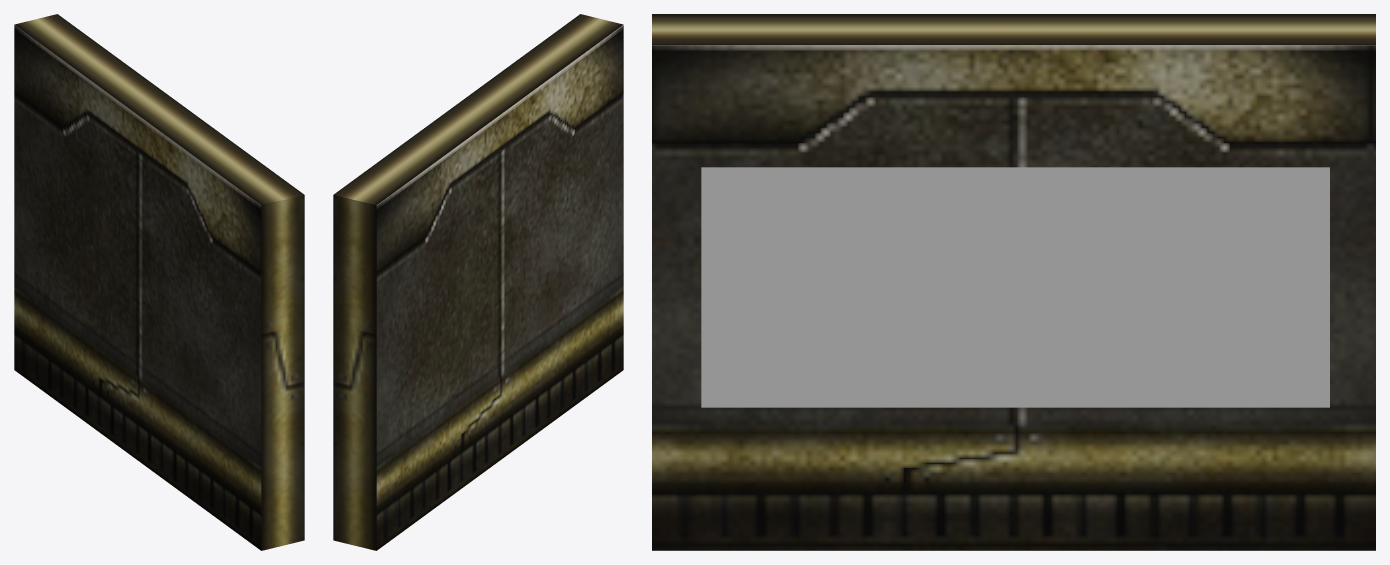
The model's file is panneau_4.fbx.
3 renders of one model, left to right at view 1: azimuth 30°, elevation 25°; view 2: azimuth 150°, elevation 25°; view 3: azimuth 270°, elevation 25°, orthographic. The views are drawn at different scales.
Parts seen in each view (by area): view 1: Cube; view 2: Cube; view 3: Cube.
Boxes of the visible parts, bbox=[...] form: Cube: bbox=[14, 14, 304, 550]; Cube: bbox=[333, 14, 623, 550]; Cube: bbox=[652, 14, 1375, 550].
Bounding box in the file's own units: 26.16 × 200 × 259.
